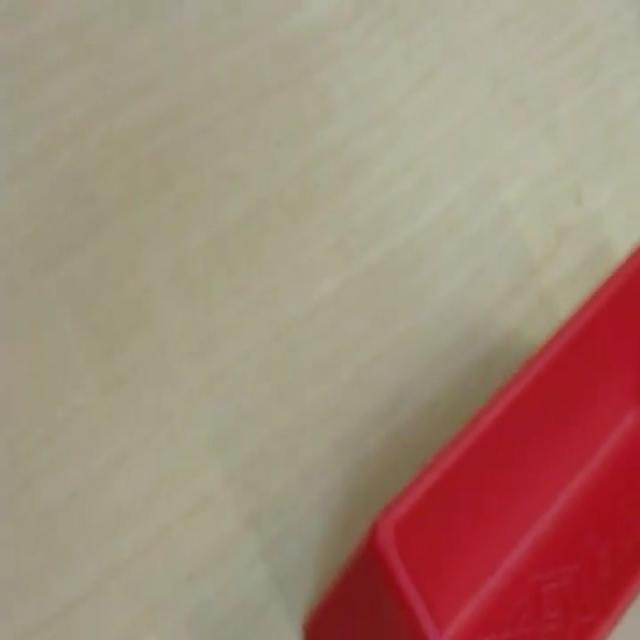red_block: (301, 242, 638, 638)
